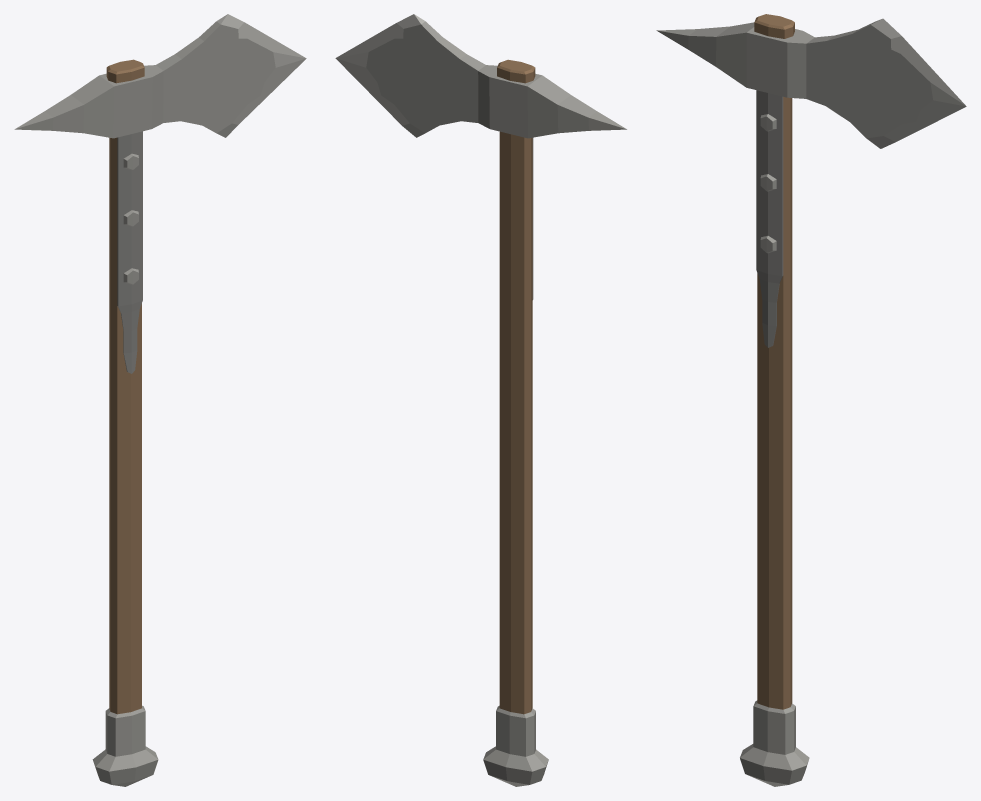
Rendered from SM_pwe_gauls_axe_02.fbx.
3 views of the same model, side by side, from view 1: azimuth 30°, elevation 25°; view 2: azimuth 150°, elevation 25°; view 3: azimuth 330°, elevation 25° (orthographic). The views are drawn at different scales.
Parts seen in each view (by area): view 1: SM_pwe_gauls_axe_02; view 2: SM_pwe_gauls_axe_02; view 3: SM_pwe_gauls_axe_02.
Boxes of the visible parts, x1,y1,x2,y2 form: SM_pwe_gauls_axe_02: (14,14,306,786); SM_pwe_gauls_axe_02: (335,14,626,786); SM_pwe_gauls_axe_02: (656,14,966,786).
Bounding box in the file's own units: 46.59 × 114 × 5.8.
